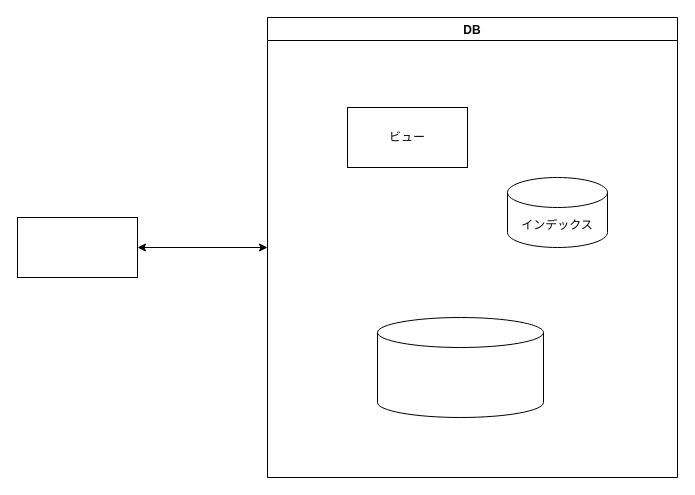
The diagram is 695 pixels wide and 495 high, and some of its shapes have lost their labels. The shapes that lost their labels are listed below. From the top down, each one's centre as x and y in pixels, then its label:
At point (77, 247): "サーバープロセス".
At point (460, 367): "テーブル".
